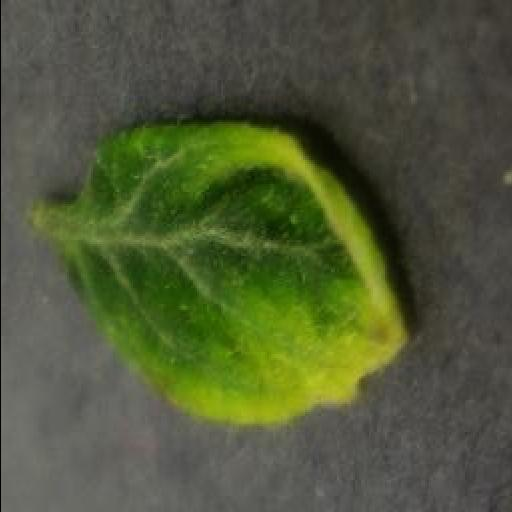disease_tomato: (75, 118, 409, 428)
